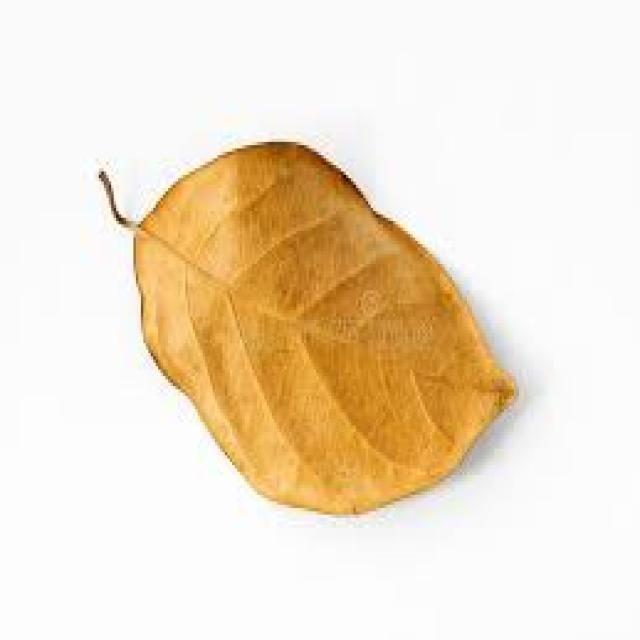leaf: (98, 138, 517, 516)
